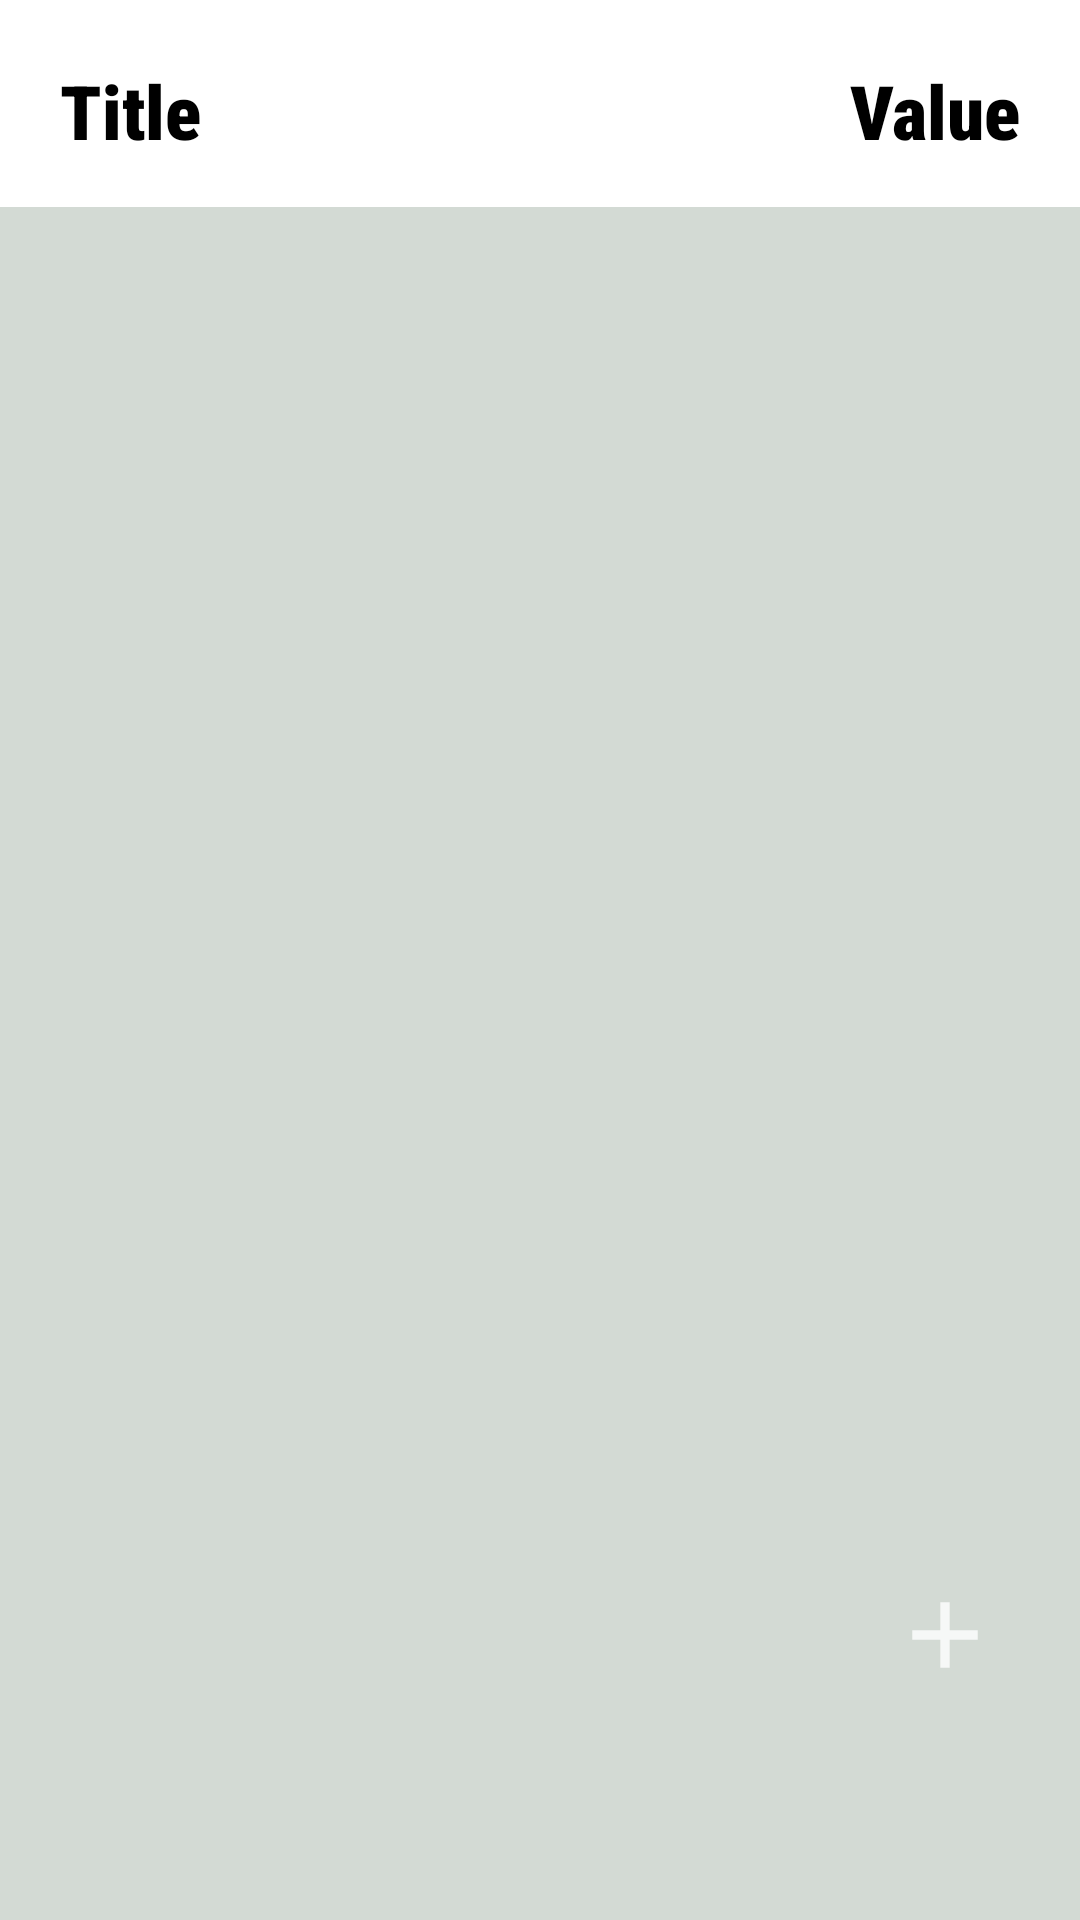

Named icons in this screenshot (1080w x 1920h) and their centers, (x=x, y=y):
add: (x=945, y=1635)
